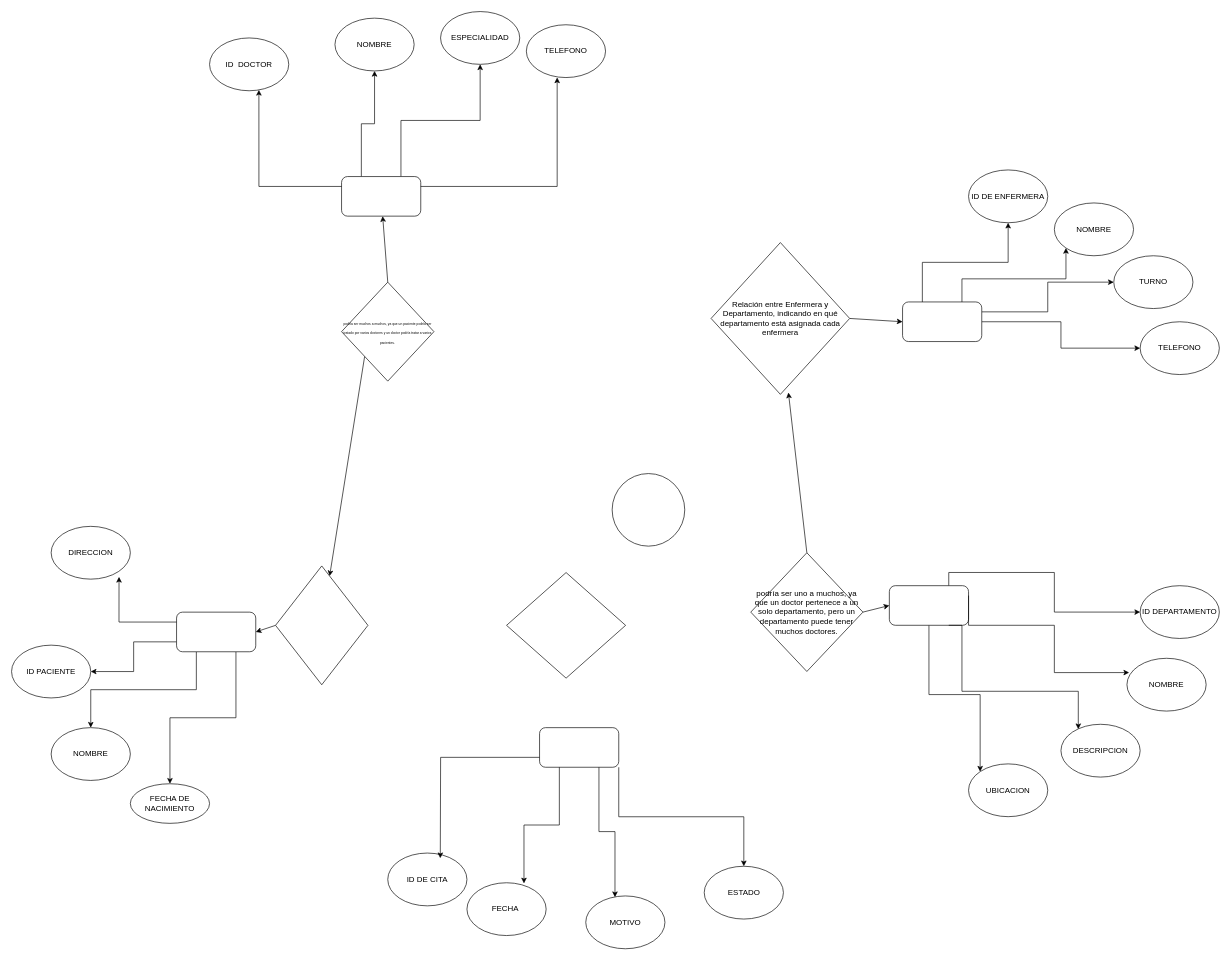
This 1231x960 diagram has some shape labels left out. The centre of each missing label's shape, as x and y in pixels:
"CITA" belongs at [579,747].
"DEPARAMENTO" belongs at [929,605].
"DOCTOR" belongs at [381,196].
"ENFERMERA" belongs at [942,321].
"HOSPITAL" belongs at [648,509].
"PACIENTE" belongs at [216,631].
"un doctor puede tratar a varios pacientes" belongs at [321,625].
